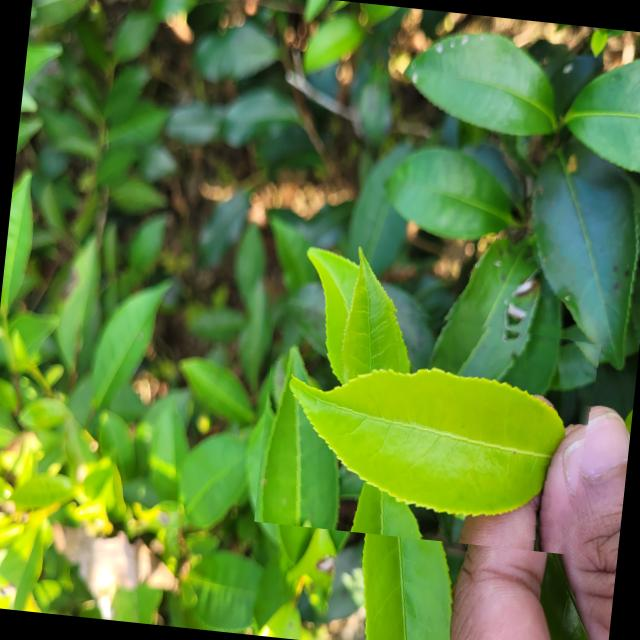Category B(2-4 days): (254, 292, 603, 556)
